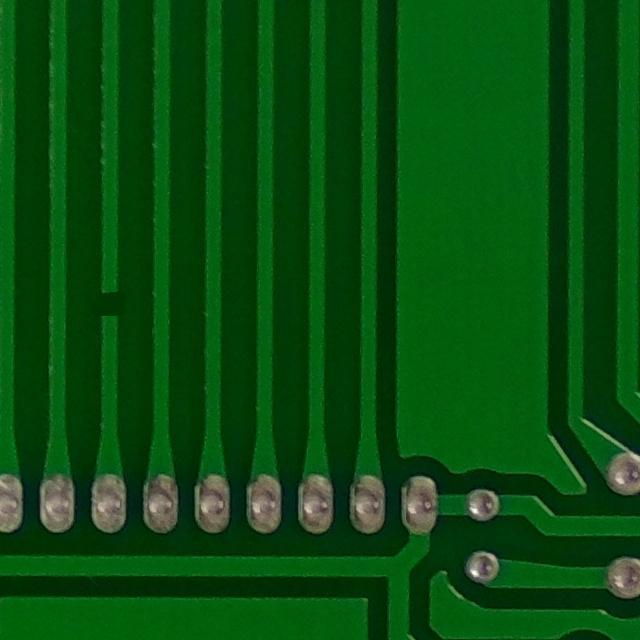open_circuit: (89, 279, 127, 326)
